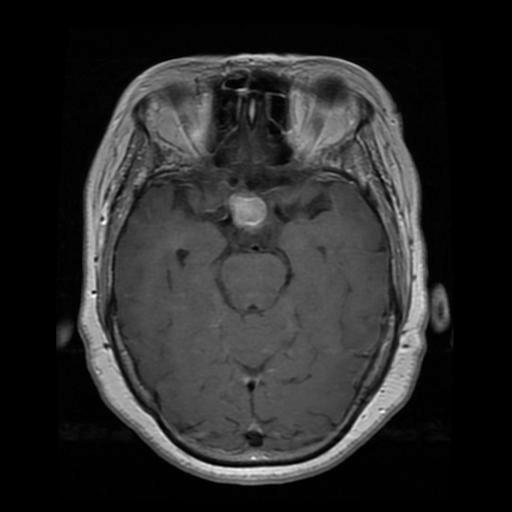Tumour-Pituitary: (228, 196, 271, 229)
